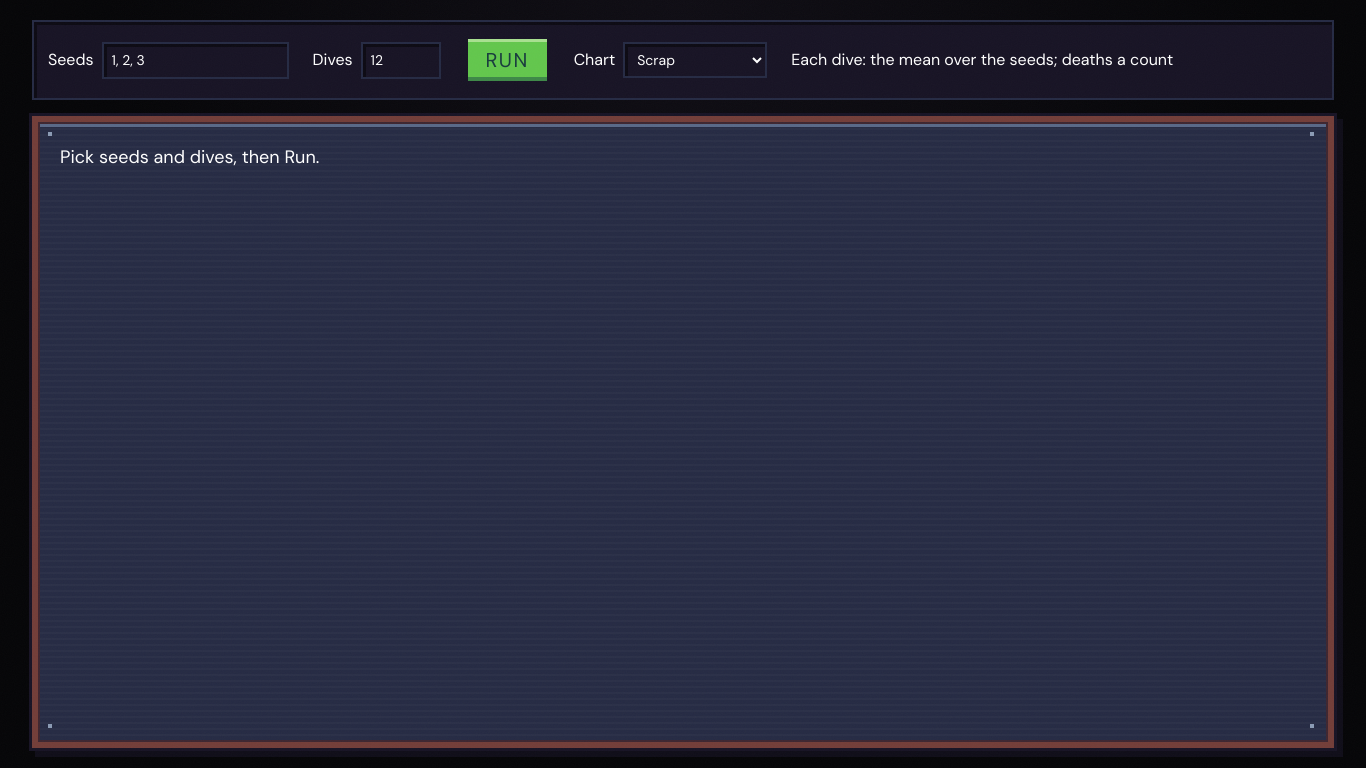
Scenario: EconomyView › charts a material's income, spending and death loss, the items forged by rarity, the depth or the deaths
Click the button with test id "economy-run" at (507, 60), box [464,36,550,84]
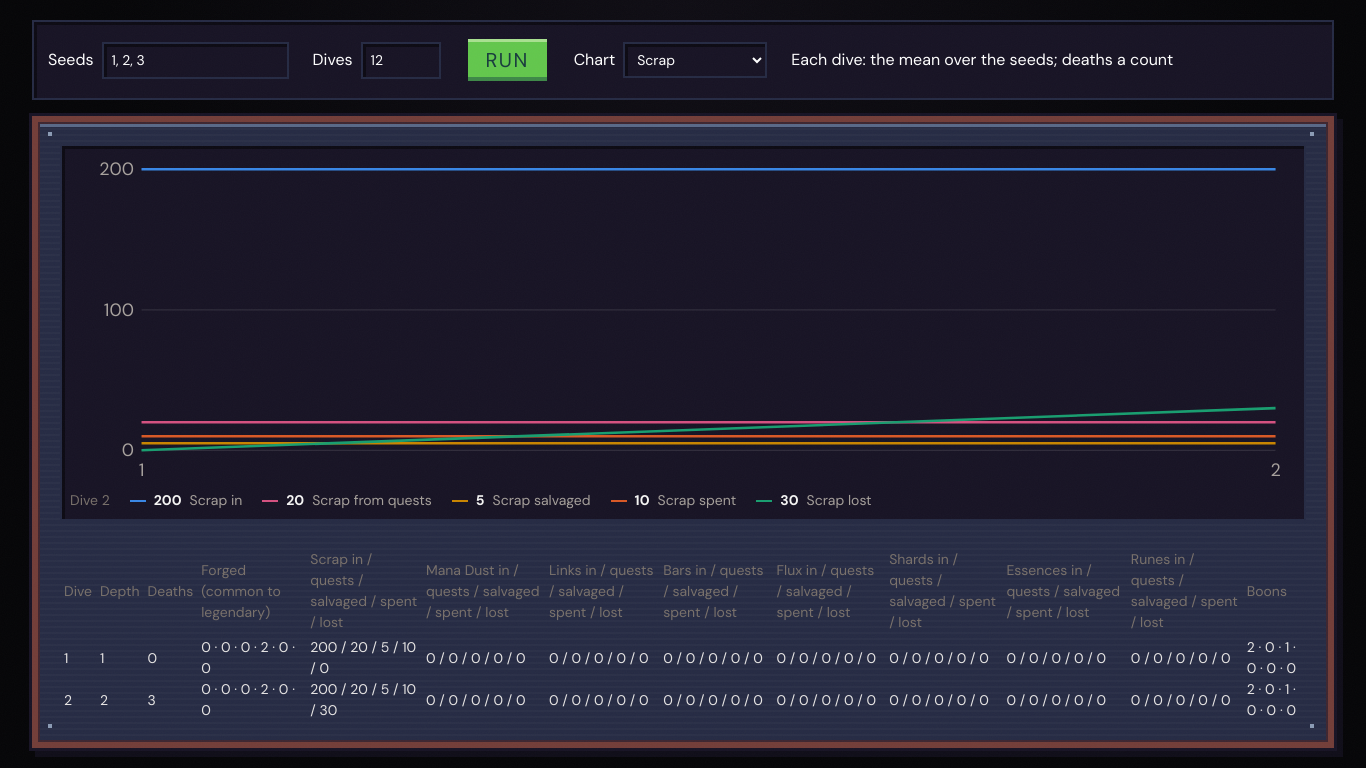
Check: the list with test id "economy-legend" shows "Scrap in", box [190,491,242,509]
Check: the list with test id "economy-legend" shows "Scrap from quests", box [312,491,432,509]
Check: the list with test id "economy-legend" shows "Scrap salvaged", box [492,491,591,509]
Select "Items forged" in the dropdown with test id "economy-show" at (695, 60), box [623,42,767,78]
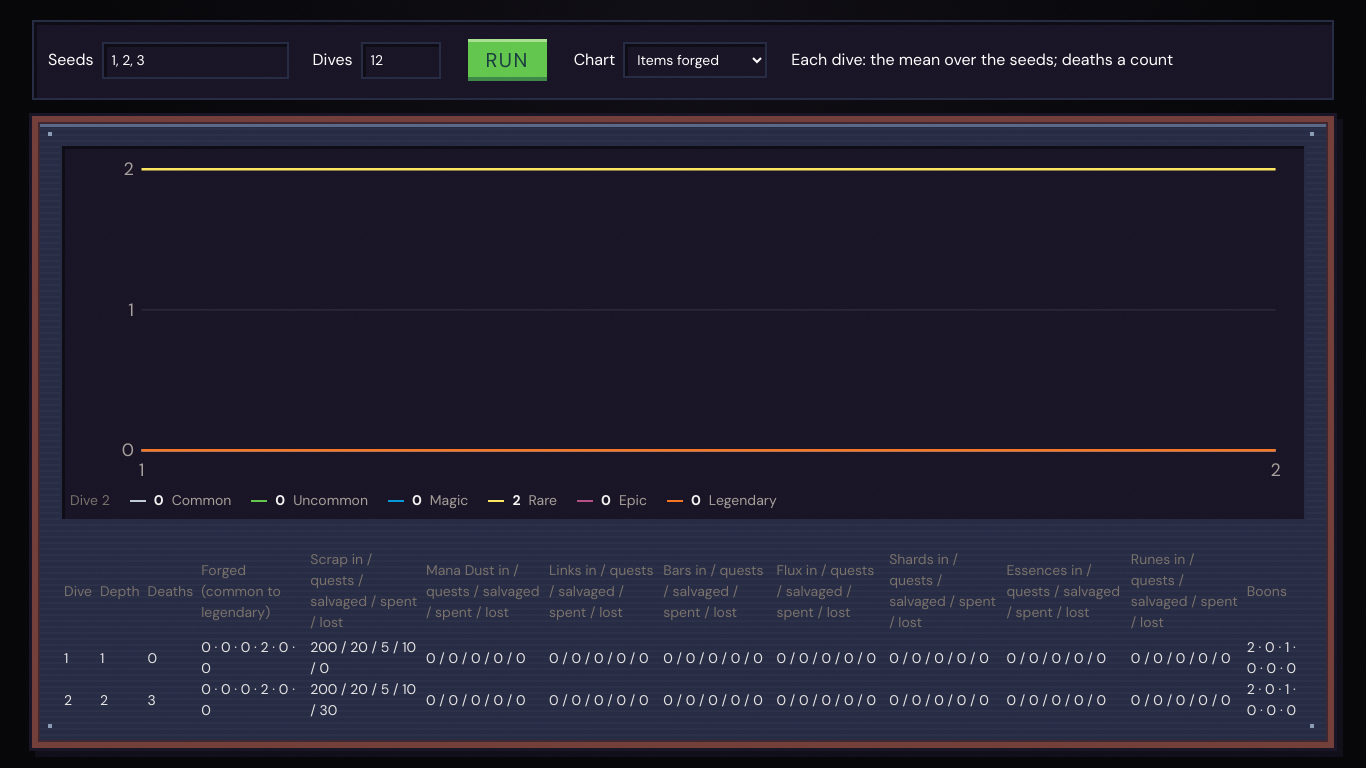
Select "Boons by family" in the dropdown with test id "economy-show" at (695, 60), box [623,42,767,78]
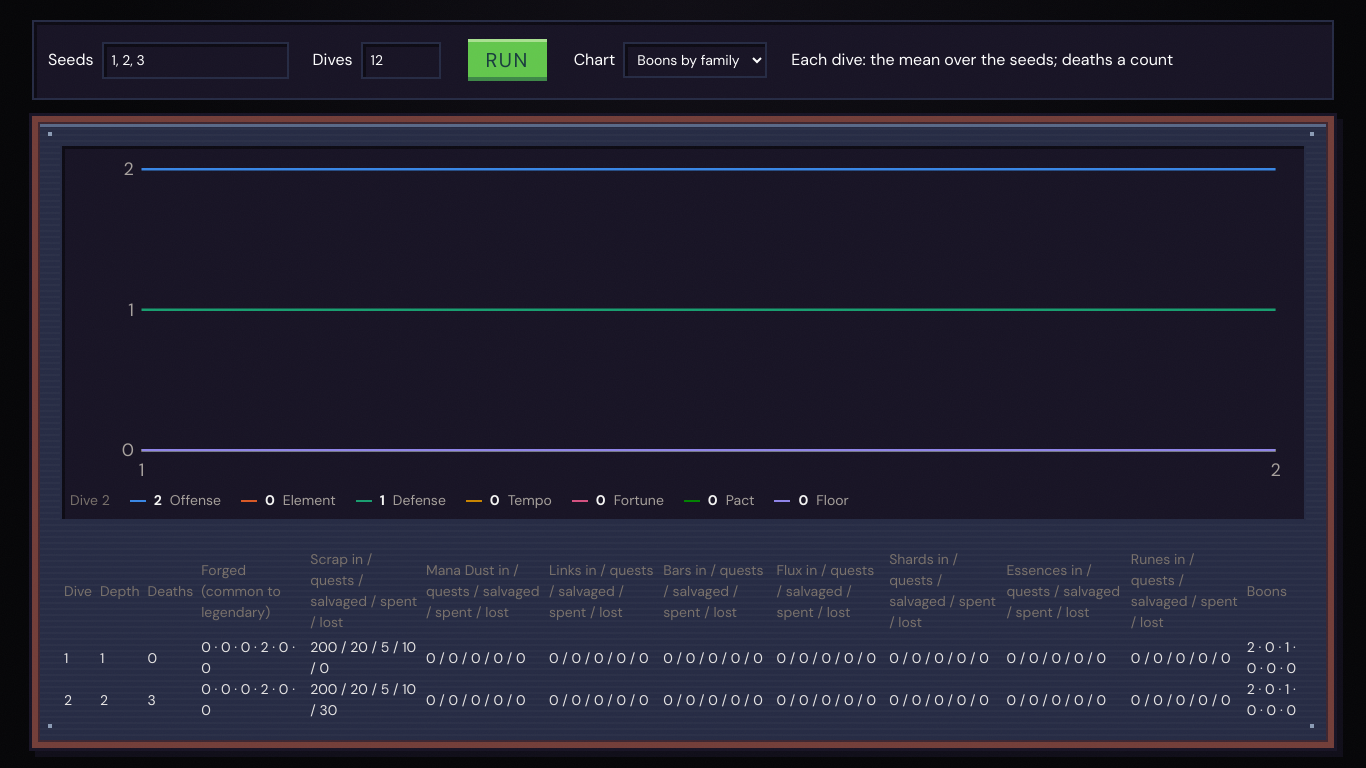
Check: the list with test id "economy-legend" shows "Offense", box [170,491,221,509]
Select "Deaths" in the dropdown with test id "economy-show" at (695, 60), box [623,42,767,78]
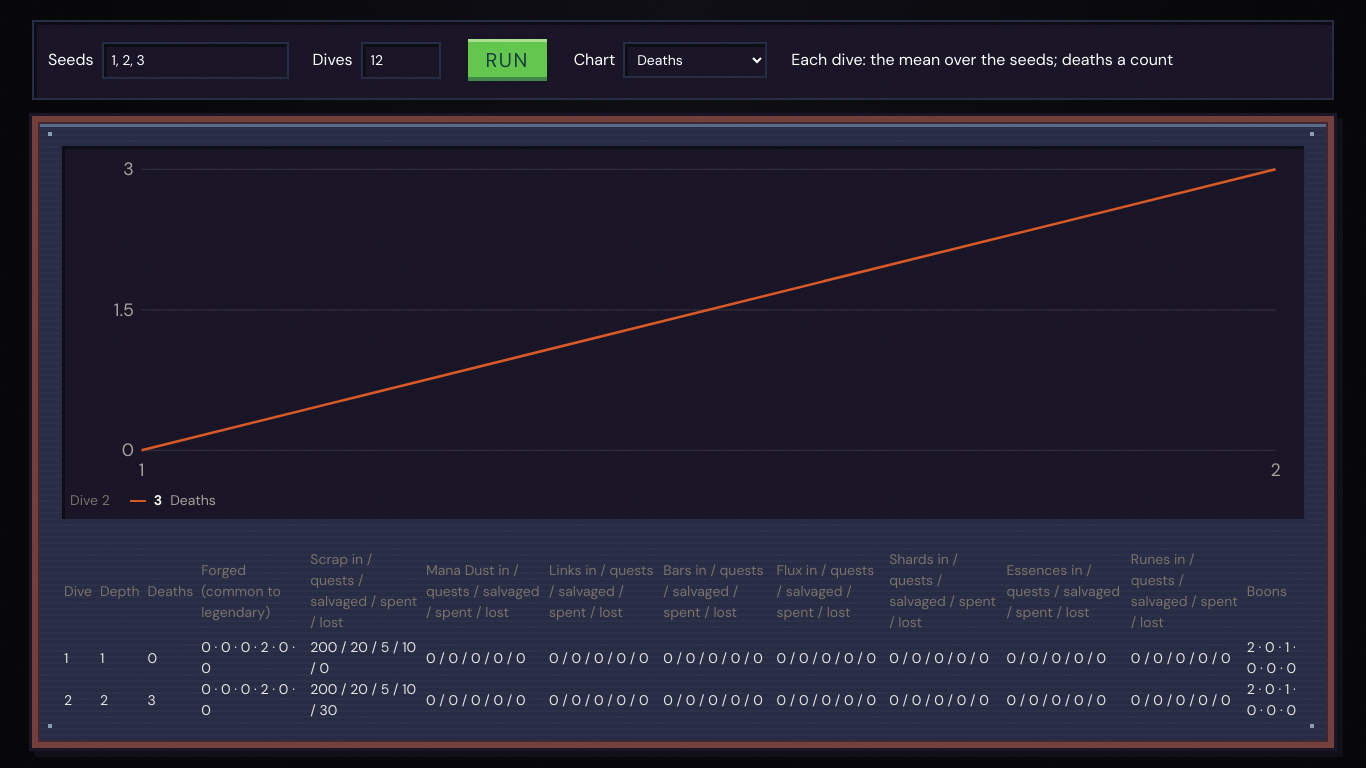
Check: the list with test id "economy-legend" reads "Dive 2 3 Deaths", box [70,491,216,509]
